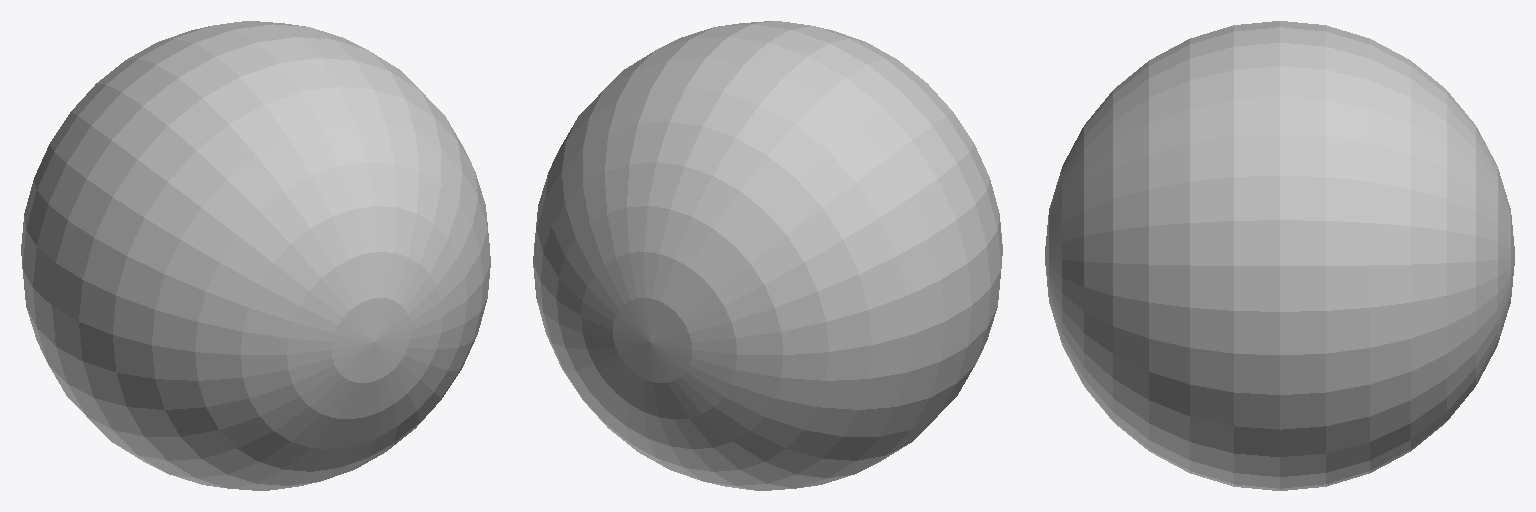
Rendered from RegulationTennisBallCollisionMesh.obj.
3 views of the same model, side by side, from view 1: azimuth 30°, elevation 25°; view 2: azimuth 150°, elevation 25°; view 3: azimuth 270°, elevation 25° (orthographic).
Visible parts, largest first — view 1: Sphere; view 2: Sphere; view 3: Sphere.
Boxes of the visible parts, box(x1,y1,x2,y2) form: Sphere: box(21, 21, 490, 490); Sphere: box(533, 21, 1002, 490); Sphere: box(1045, 21, 1514, 490).
Bounding box in the file's own units: 0.067 × 0.067 × 0.067.